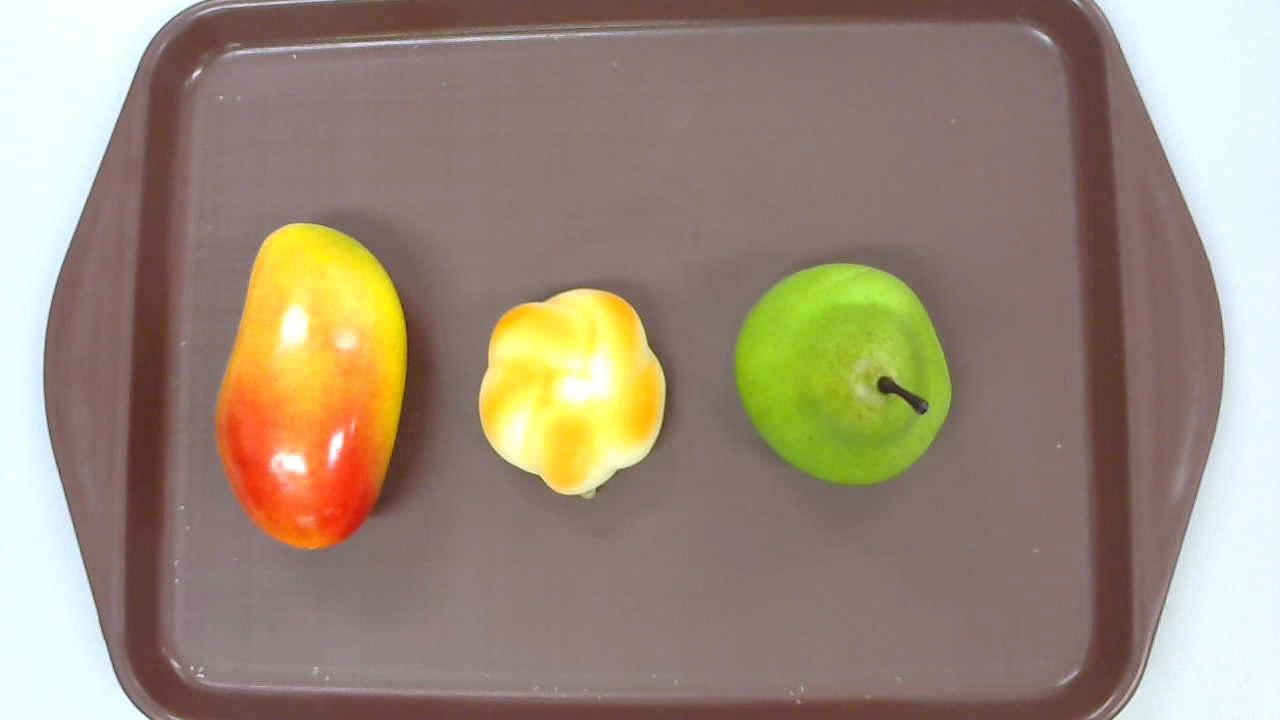green pear: (735, 262, 950, 484)
red mango: (213, 223, 407, 551)
twist bread: (478, 287, 666, 497)
